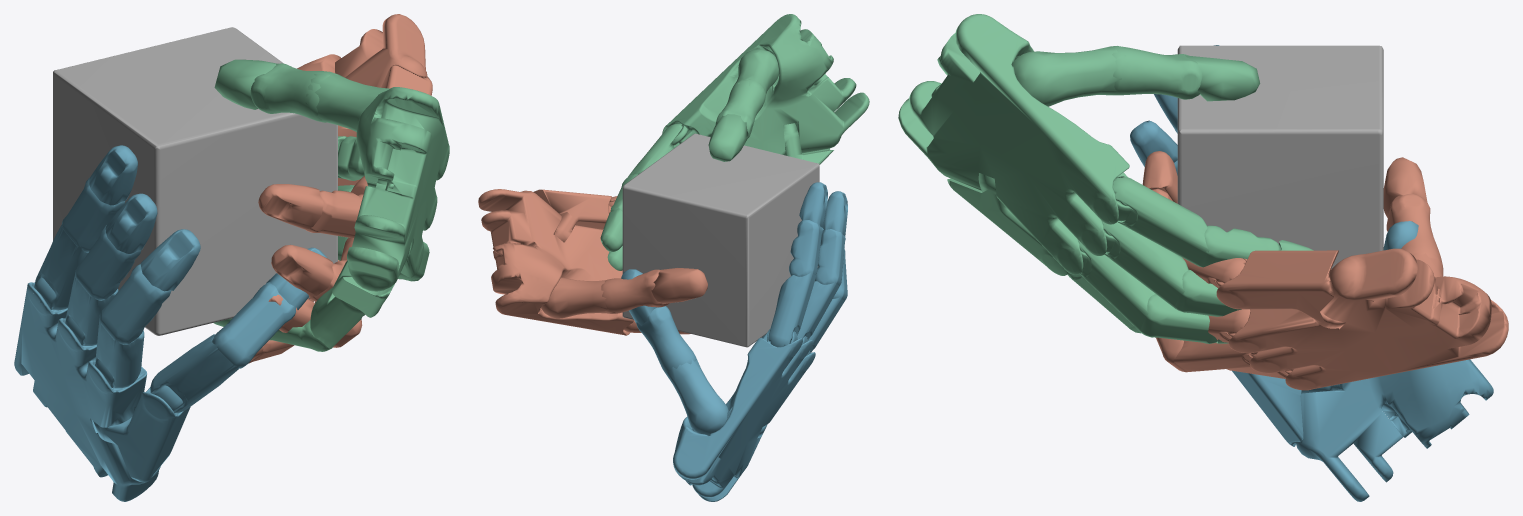
The picture shows the model from 3 angles, left to right: view 1: azimuth 30°, elevation 25°; view 2: azimuth 150°, elevation 25°; view 3: azimuth 270°, elevation 25°; orthographic projection. The views are drawn at different scales.
Size of the model in its own units: 0.2142 by 0.255 by 0.2704.
